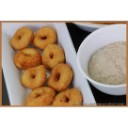vada: (45, 63, 72, 89), (18, 65, 47, 87), (53, 84, 83, 105), (43, 42, 67, 68), (13, 46, 41, 67), (24, 87, 55, 105), (11, 26, 32, 49), (34, 27, 57, 46)
